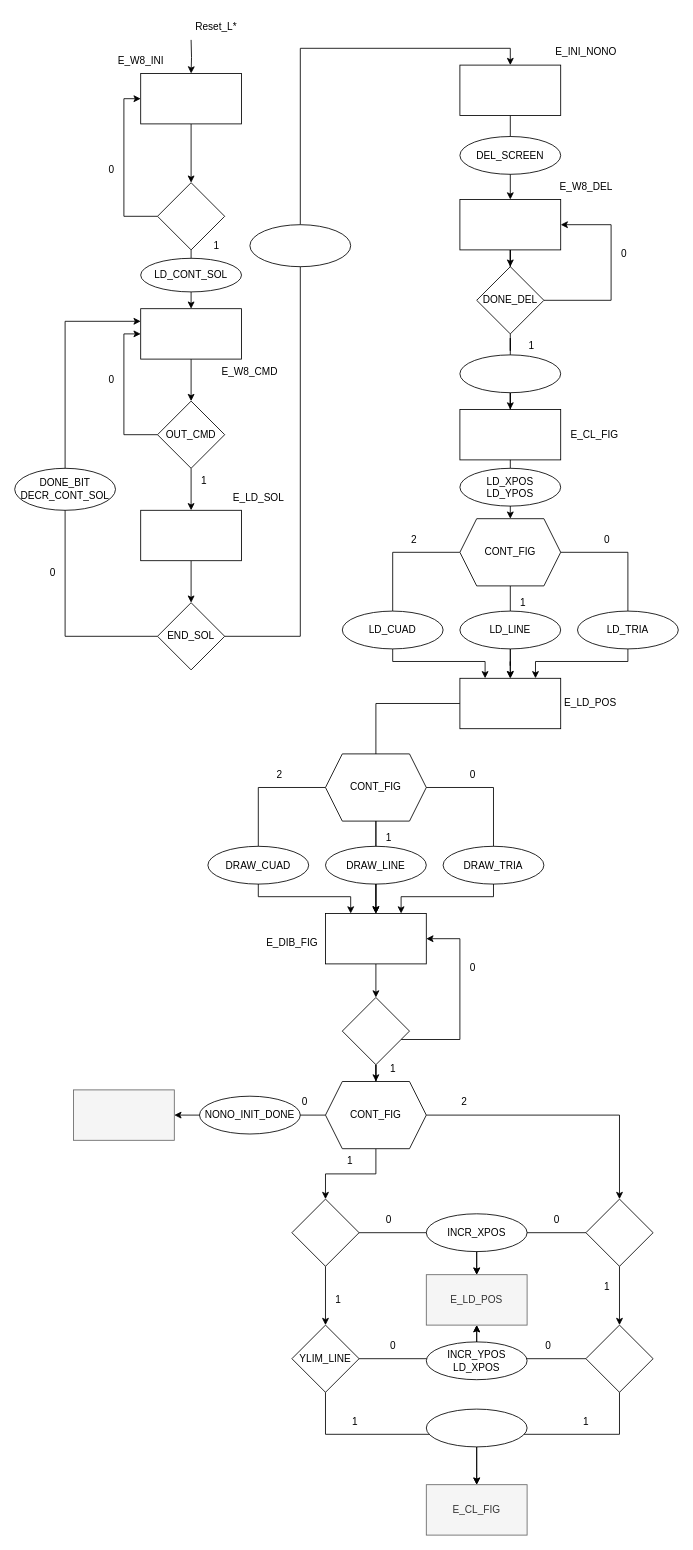
This 693x1550 diagram has some shape labels left out. Here are the shapes that lost their labels. From the top down, the box of each, then its label:
(157, 182, 225, 250): INI_NONO
(249, 224, 351, 267): LD_DEL
(459, 354, 561, 393): LD_CONT_FIG
(459, 409, 561, 460): CL_FIG
(140, 509, 242, 561): LD_SOL
(341, 997, 410, 1065): DONE_FIG
(73, 1089, 174, 1140): E_W8_CURSOR
(291, 1198, 359, 1266): XLIM_LINE
(585, 1198, 653, 1266): XLIM_CUAD
(585, 1324, 653, 1392): YLIM_CUAD
(425, 1408, 527, 1447): DECR_CONT_FIG
